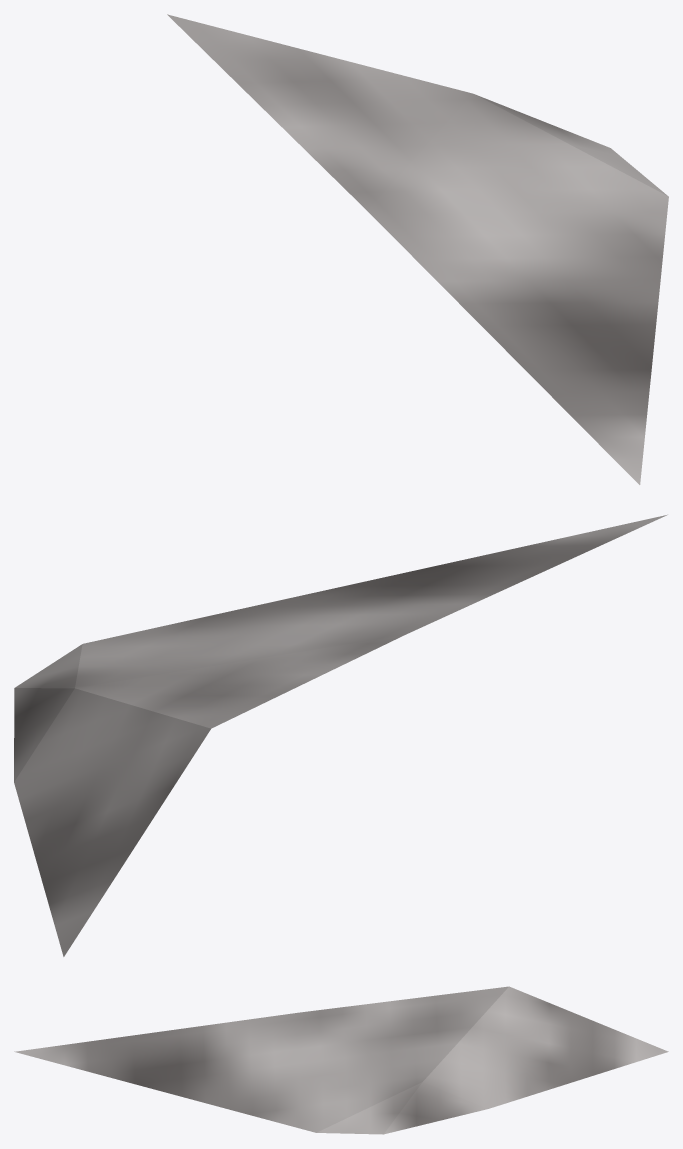
The picture shows the model from 3 angles, top to bottom: view 1: azimuth 30°, elevation 25°; view 2: azimuth 150°, elevation 25°; view 3: azimuth 270°, elevation 25°; orthographic projection. The views are drawn at different scales.
Size of the model in its own units: 0.0267 by 0.00983 by 0.0893.
1 material, 1 textured.
